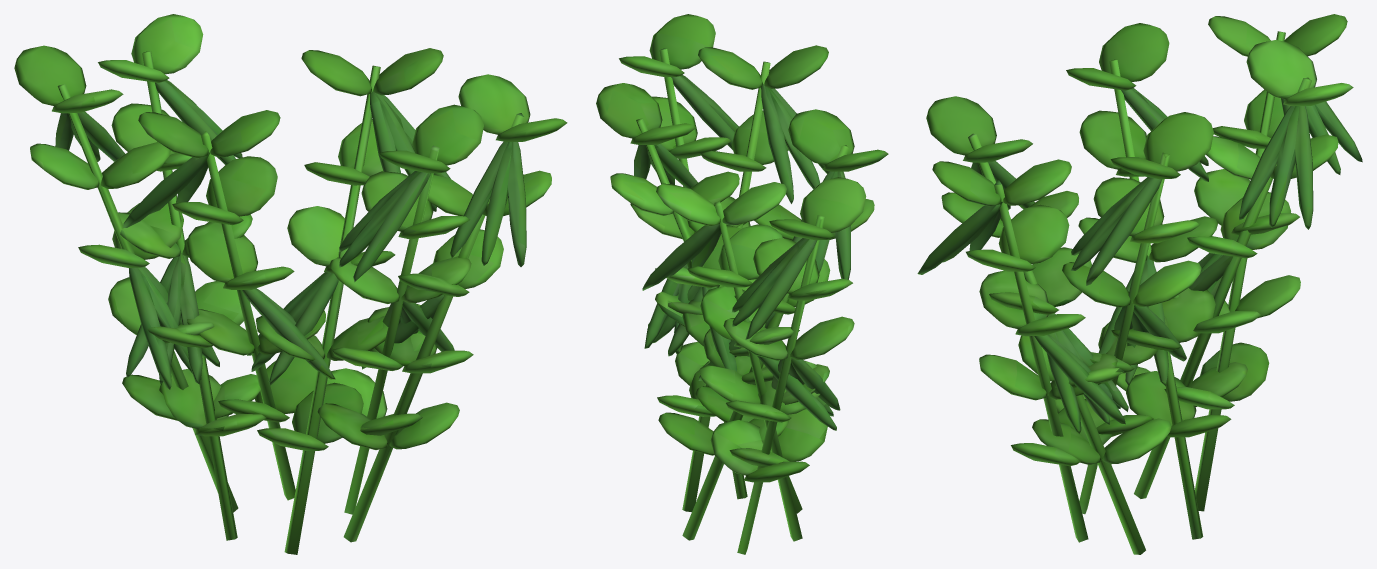
Rendered from crop_mung_bean.glb.
3 renders of one model, left to right at view 1: azimuth 30°, elevation 25°; view 2: azimuth 150°, elevation 25°; view 3: azimuth 270°, elevation 25°, orthographic. The views are drawn at different scales.
Parts seen in each view (by area): view 1: crop_mung_bean, fruit; view 2: crop_mung_bean, fruit; view 3: crop_mung_bean, fruit.
Part boxes in pixels (box(x1,y1,x2,y2)): crop_mung_bean: box(14, 14, 567, 554); fruit: box(55, 80, 526, 389); crop_mung_bean: box(596, 14, 888, 554); fruit: box(634, 75, 850, 430); crop_mung_bean: box(926, 14, 1353, 554); fruit: box(917, 88, 1362, 433).
Size of the model in its own units: 0.1896 by 0.2149 by 0.2003.
Materials: 1 (1 with a texture image).
